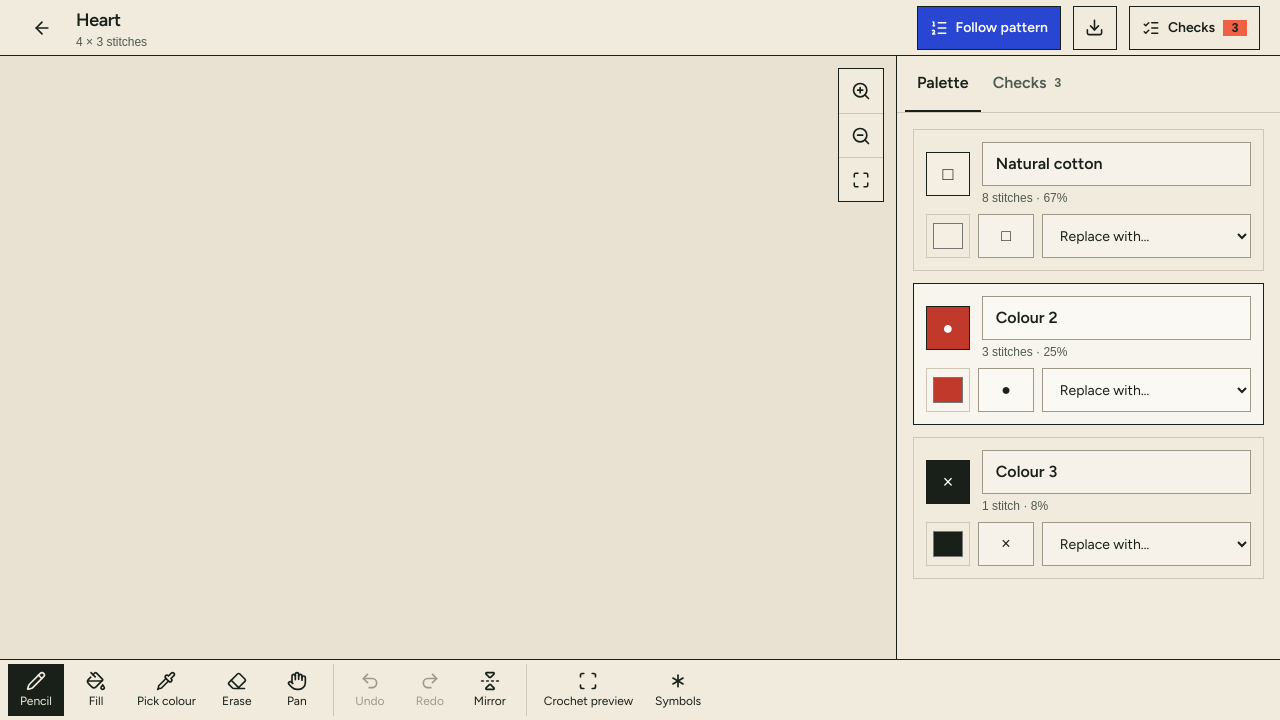
Test: PatternEditor › offers labelled PNG and printable PDF exports
What coordinates should you click on to do the following:
click the button named "Export chart"
I would click on:
 (1095, 28)
Its box is [1073, 6, 1117, 50].
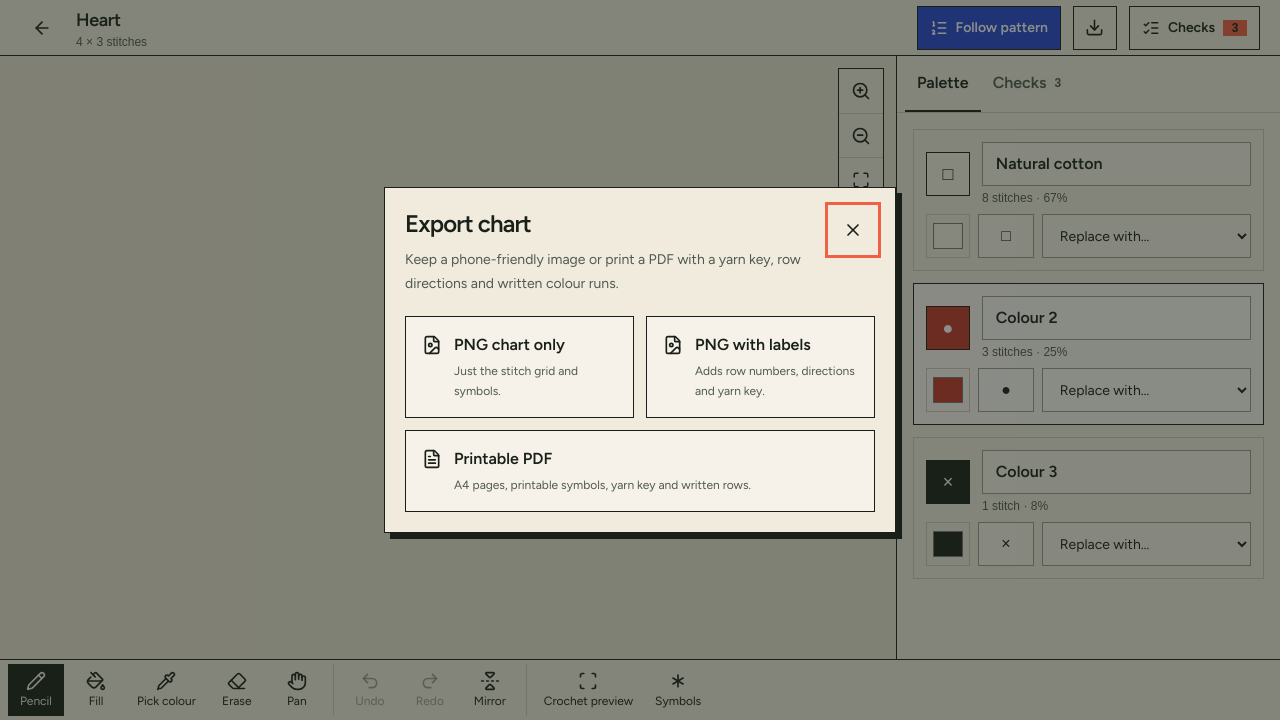
Expected: the button "PNG chart only" is enabled, [405, 316, 634, 418]
Expected: the button "PNG with labels" is enabled, [646, 316, 875, 418]
Expected: the button "Printable PDF" is enabled, [405, 430, 875, 512]
